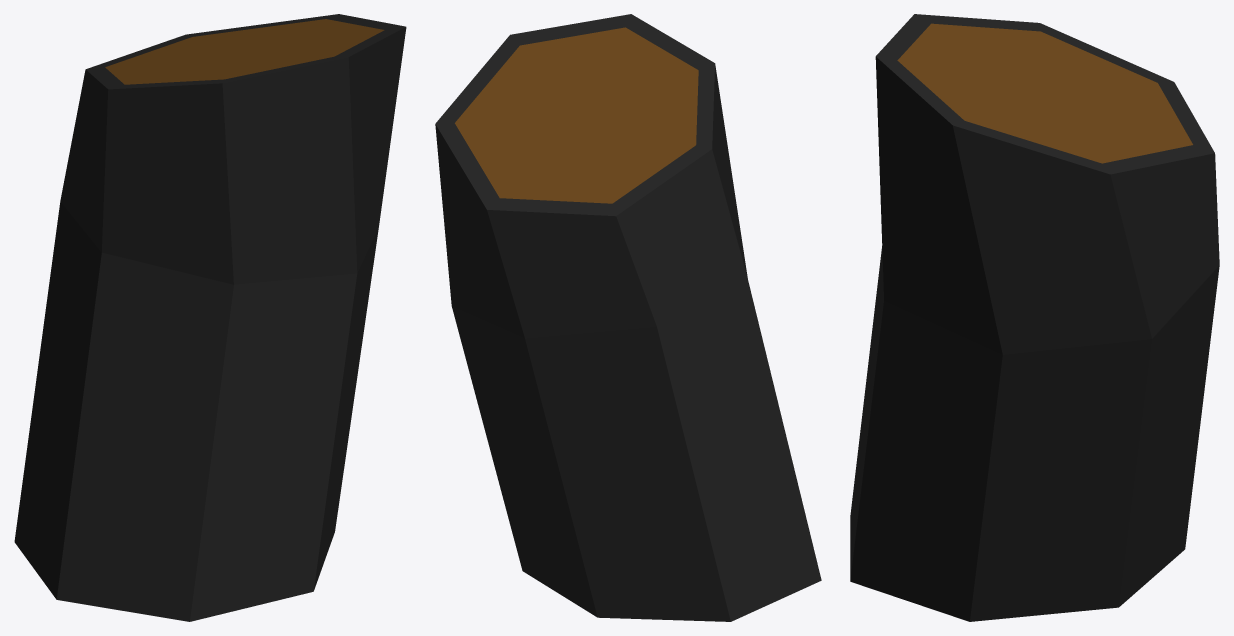
The model's file is TreeStump01.fbx.
3 views of the same model, side by side, from view 1: azimuth 30°, elevation 25°; view 2: azimuth 150°, elevation 25°; view 3: azimuth 270°, elevation 25° (orthographic). The views are drawn at different scales.
Parts seen in each view (by area): view 1: TreeStump01; view 2: TreeStump01; view 3: TreeStump01.
Boxes of the visible parts, <box> form: TreeStump01: <box>14,14,406,621</box>; TreeStump01: <box>435,14,821,621</box>; TreeStump01: <box>850,14,1219,621</box>.
Size of the model in its own units: 244 by 344 by 210.
